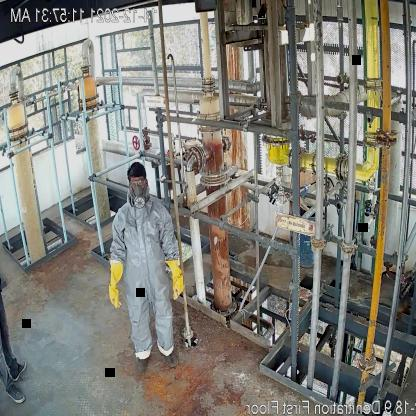goggles: (130, 178, 146, 188)
mask: (130, 187, 148, 211)
